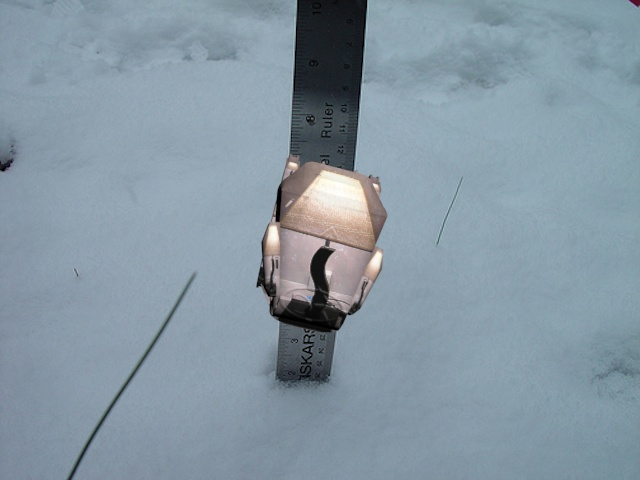back_pack: (256, 145, 400, 336)
